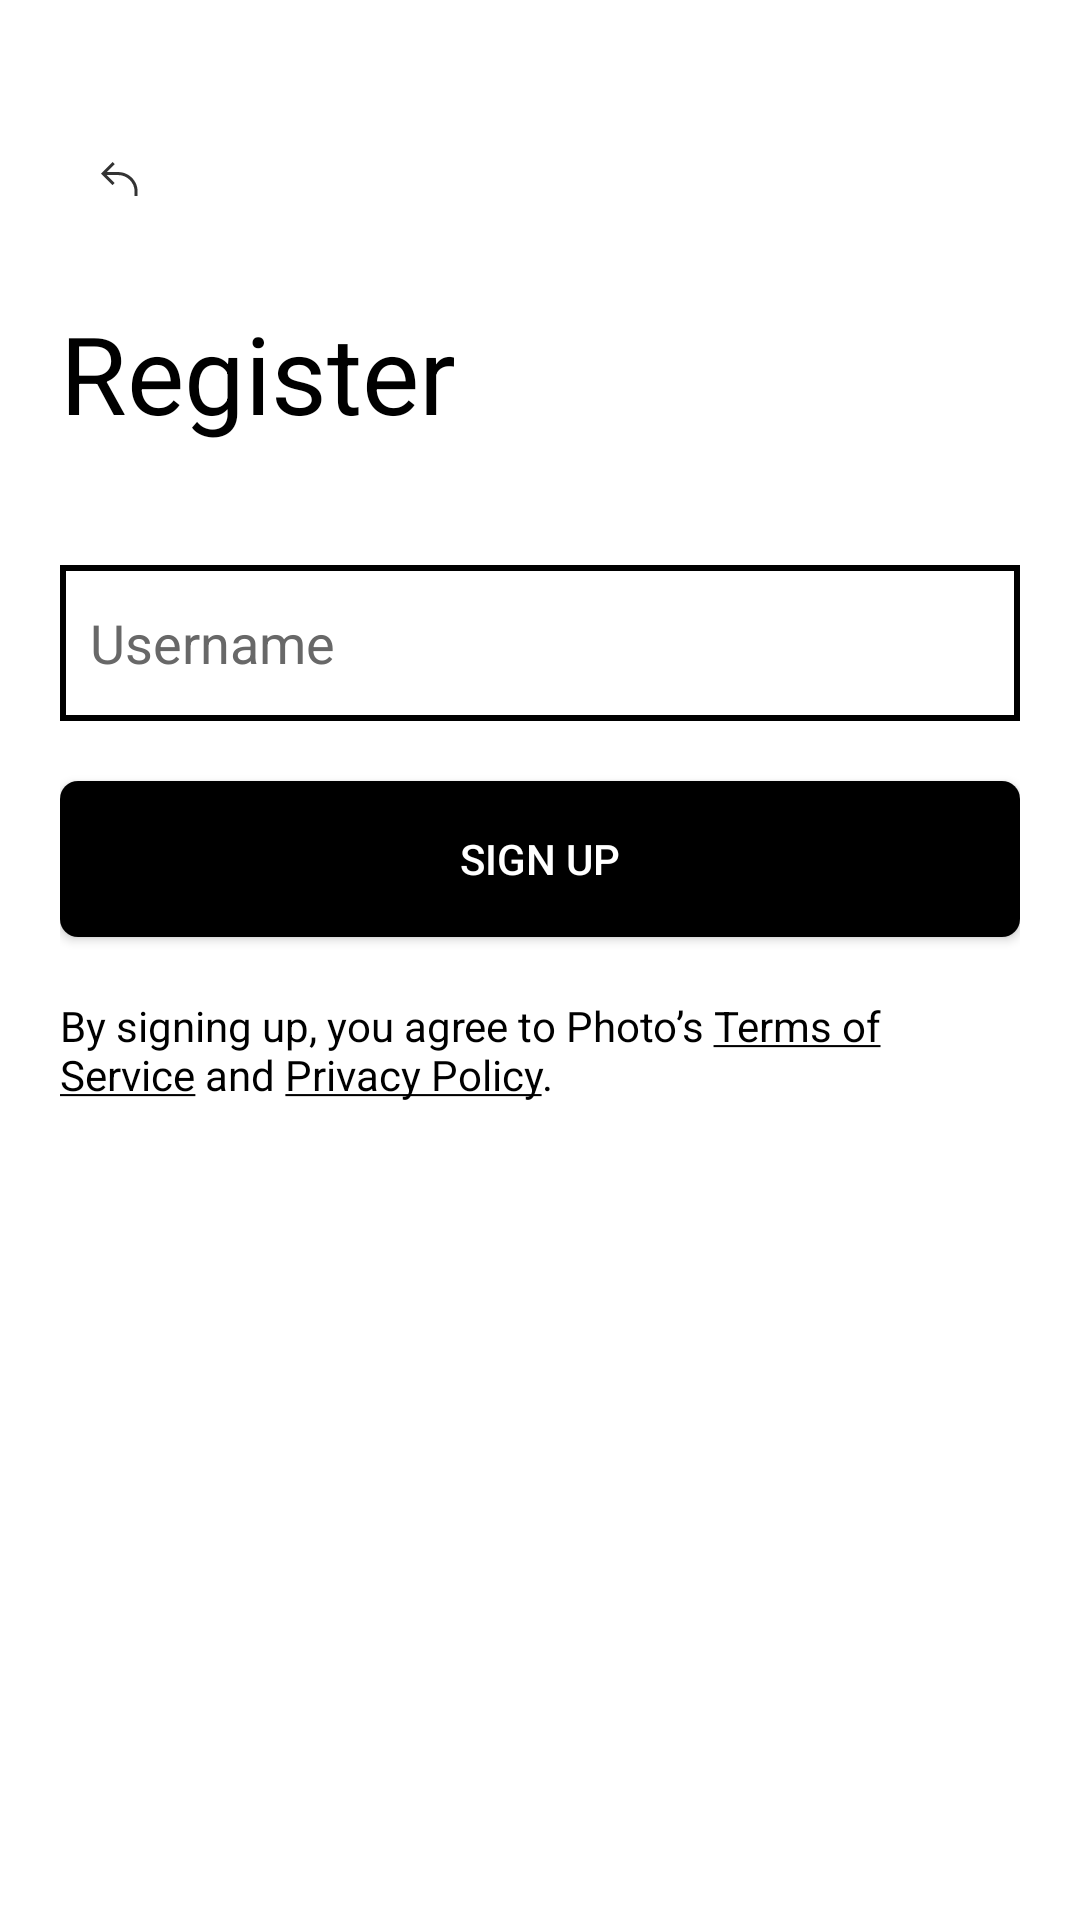

Screen size 1080px×1920px. Icon name, then its box in pixels as box=[x1, y1, x2, y2]:
back: box=[101, 162, 138, 196]
